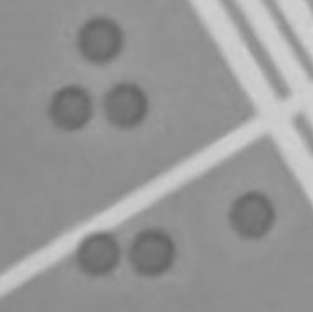cell: (223, 186, 277, 243), (122, 222, 177, 277), (99, 77, 152, 132), (72, 13, 128, 65), (44, 80, 95, 133), (72, 225, 122, 278)
